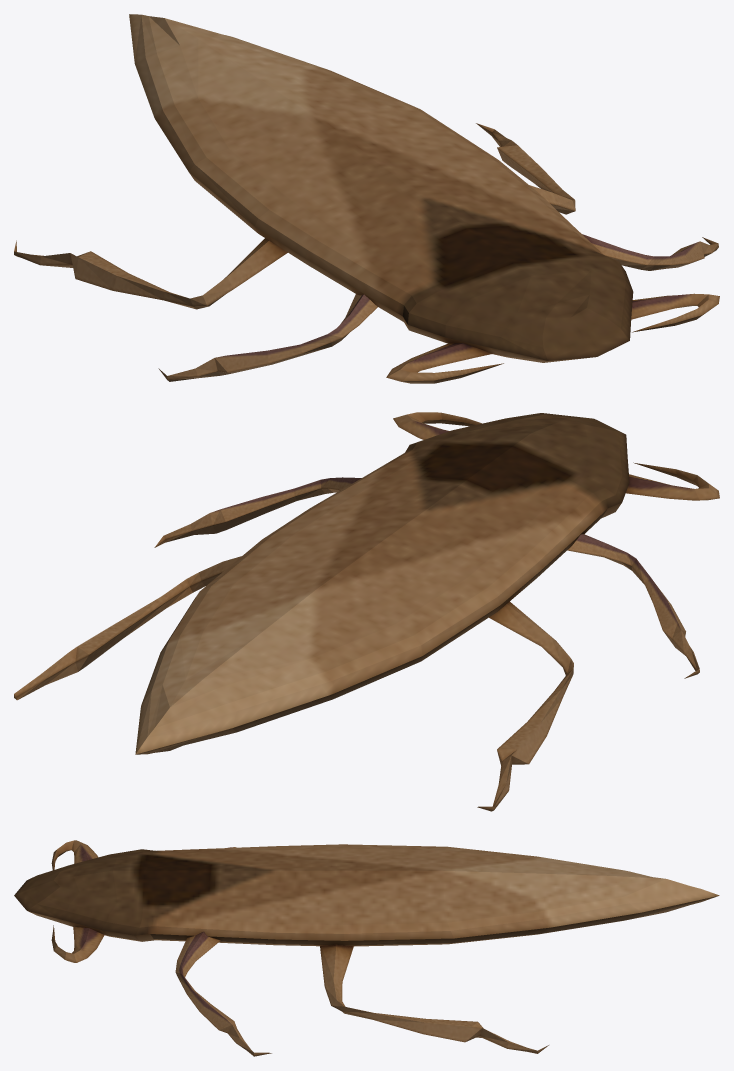
Rendered from Giant_Water_Bug_01.FBX.
3 views of the same model, one above another, from view 1: azimuth 30°, elevation 25°; view 2: azimuth 150°, elevation 25°; view 3: azimuth 270°, elevation 25° (orthographic). The views are drawn at different scales.
Parts seen in each view (by area): view 1: Giant_Water_Bug_01, Giant_Water_Bug_Right_Third_Leg_01, Giant_Water_Bug_Right_Second_Leg_002, Giant_Water_Bug_Right_First_Leg_01, Giant_Water_Bug_Left_Third_Leg_01, Giant_Water_Bug_Left_Second_Leg_01, Giant_Water_Bug_Left_First_Leg_01; view 2: Giant_Water_Bug_01, Giant_Water_Bug_Right_Third_Leg_01, Giant_Water_Bug_Left_Third_Leg_01, Giant_Water_Bug_Left_Second_Leg_01, Giant_Water_Bug_Right_Second_Leg_002, Giant_Water_Bug_Right_First_Leg_01, Giant_Water_Bug_Left_First_Leg_01; view 3: Giant_Water_Bug_01, Giant_Water_Bug_Left_Third_Leg_01, Giant_Water_Bug_Left_Second_Leg_01, Giant_Water_Bug_Left_First_Leg_01, Giant_Water_Bug_Right_First_Leg_01.
Boxes of the visible parts, left/top/right/bottom form: Giant_Water_Bug_01: left=129, top=14, right=633, bottom=362; Giant_Water_Bug_Right_Third_Leg_01: left=14, top=238, right=287, bottom=309; Giant_Water_Bug_Right_Second_Leg_002: left=158, top=294, right=377, bottom=381; Giant_Water_Bug_Right_First_Leg_01: left=386, top=343, right=503, bottom=383; Giant_Water_Bug_Left_Third_Leg_01: left=476, top=123, right=575, bottom=214; Giant_Water_Bug_Left_Second_Leg_01: left=582, top=234, right=718, bottom=270; Giant_Water_Bug_Left_First_Leg_01: left=631, top=293, right=719, bottom=332; Giant_Water_Bug_01: left=135, top=413, right=629, bottom=754; Giant_Water_Bug_Right_Third_Leg_01: left=477, top=601, right=573, bottom=811; Giant_Water_Bug_Left_Third_Leg_01: left=14, top=556, right=241, bottom=700; Giant_Water_Bug_Left_Second_Leg_01: left=154, top=477, right=361, bottom=547; Giant_Water_Bug_Right_Second_Leg_002: left=567, top=534, right=699, bottom=678; Giant_Water_Bug_Right_First_Leg_01: left=626, top=462, right=719, bottom=500; Giant_Water_Bug_Left_First_Leg_01: left=393, top=412, right=481, bottom=439; Giant_Water_Bug_01: left=14, top=844, right=719, bottom=946; Giant_Water_Bug_Left_Third_Leg_01: left=320, top=944, right=548, bottom=1053; Giant_Water_Bug_Left_Second_Leg_01: left=175, top=931, right=271, bottom=1056; Giant_Water_Bug_Left_First_Leg_01: left=51, top=925, right=104, bottom=962; Giant_Water_Bug_Right_First_Leg_01: left=51, top=840, right=98, bottom=870.
Bounding box in the file's own units: 3.83 × 0.8338 × 5.65.
